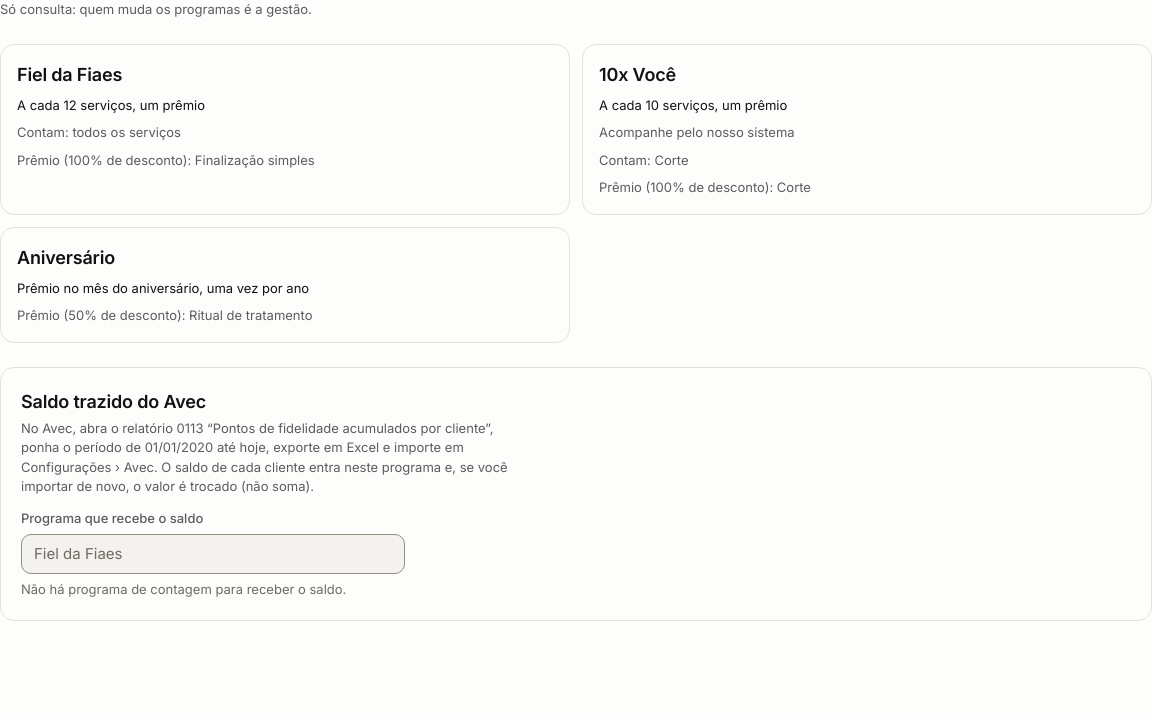
Test case: a recepção só consulta: sem Novo programa, sem Salvar e campos travados
What coordinates should you click on to do the following:
click the button with aria-label "Abrir Fiel da Fiaes"
I would click on:
 (70, 74)
Its box is [0,44,570,214].
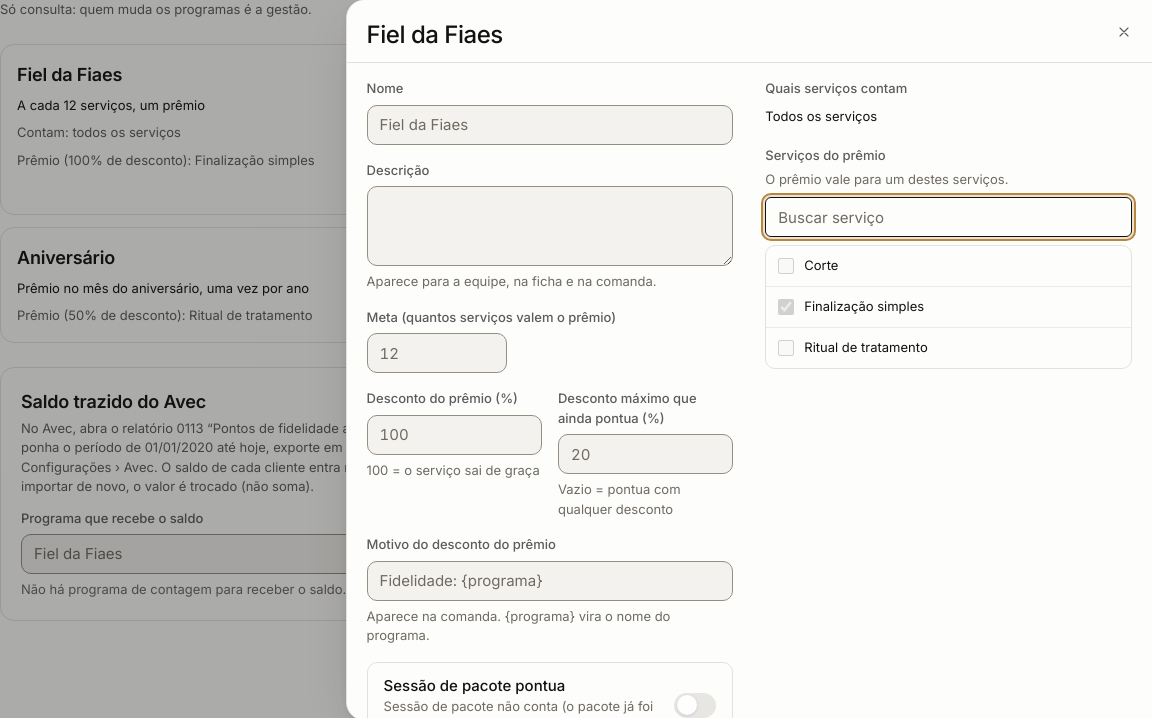
Expected: the dropdown labelled "Programa que recebe o saldo" is disabled, [21,534,405,574]
Now the field labelled "Nome" is disabled, box [367,104,733,144]
